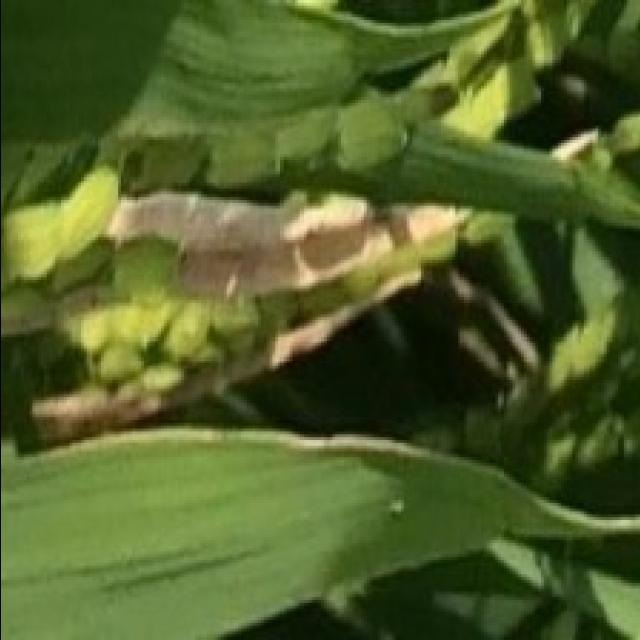Unhealthy: (0, 135, 600, 460)
